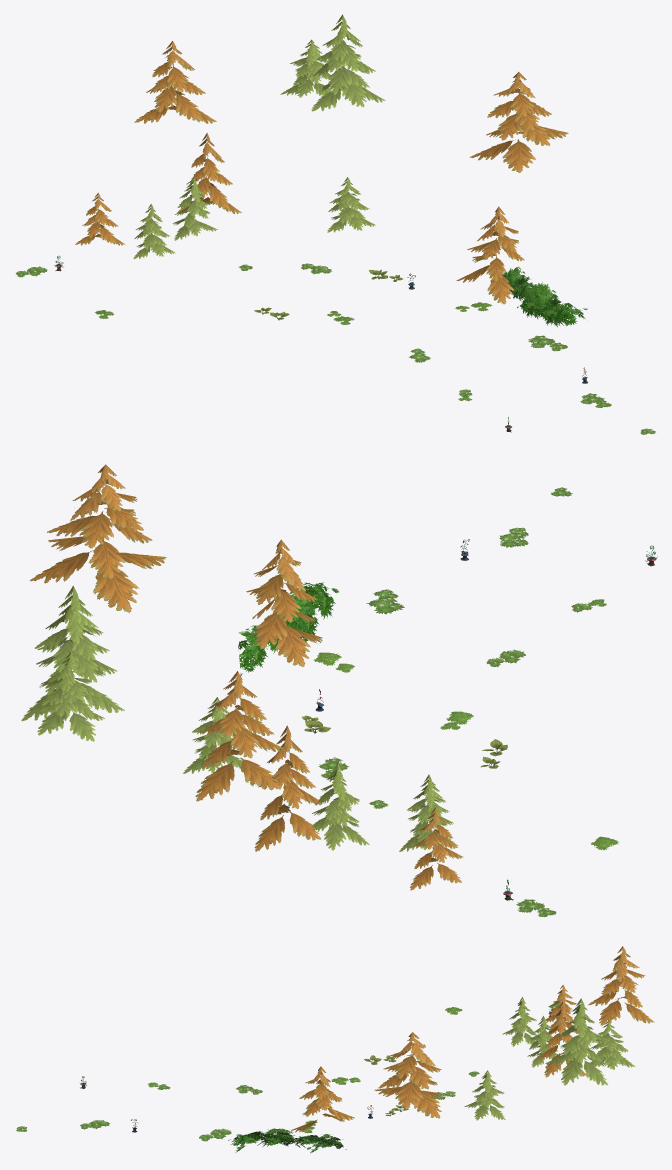
File: zhibei4_1.fbx
3 renders of one model, top to bottom at view 1: azimuth 30°, elevation 25°; view 2: azimuth 150°, elevation 25°; view 3: azimuth 270°, elevation 25°, orthographic. The views are drawn at different scales.
Visible parts, largest first — view 1: zhibei4_1; view 2: zhibei4_1; view 3: zhibei4_1.
Boxes of the visible parts, box(x1,y1,x2,y2) form: zhibei4_1: box(16, 14, 655, 434); zhibei4_1: box(21, 464, 657, 916); zhibei4_1: box(16, 946, 654, 1153).
Size of the model in its own units: 4332 by 1572 by 6155.
